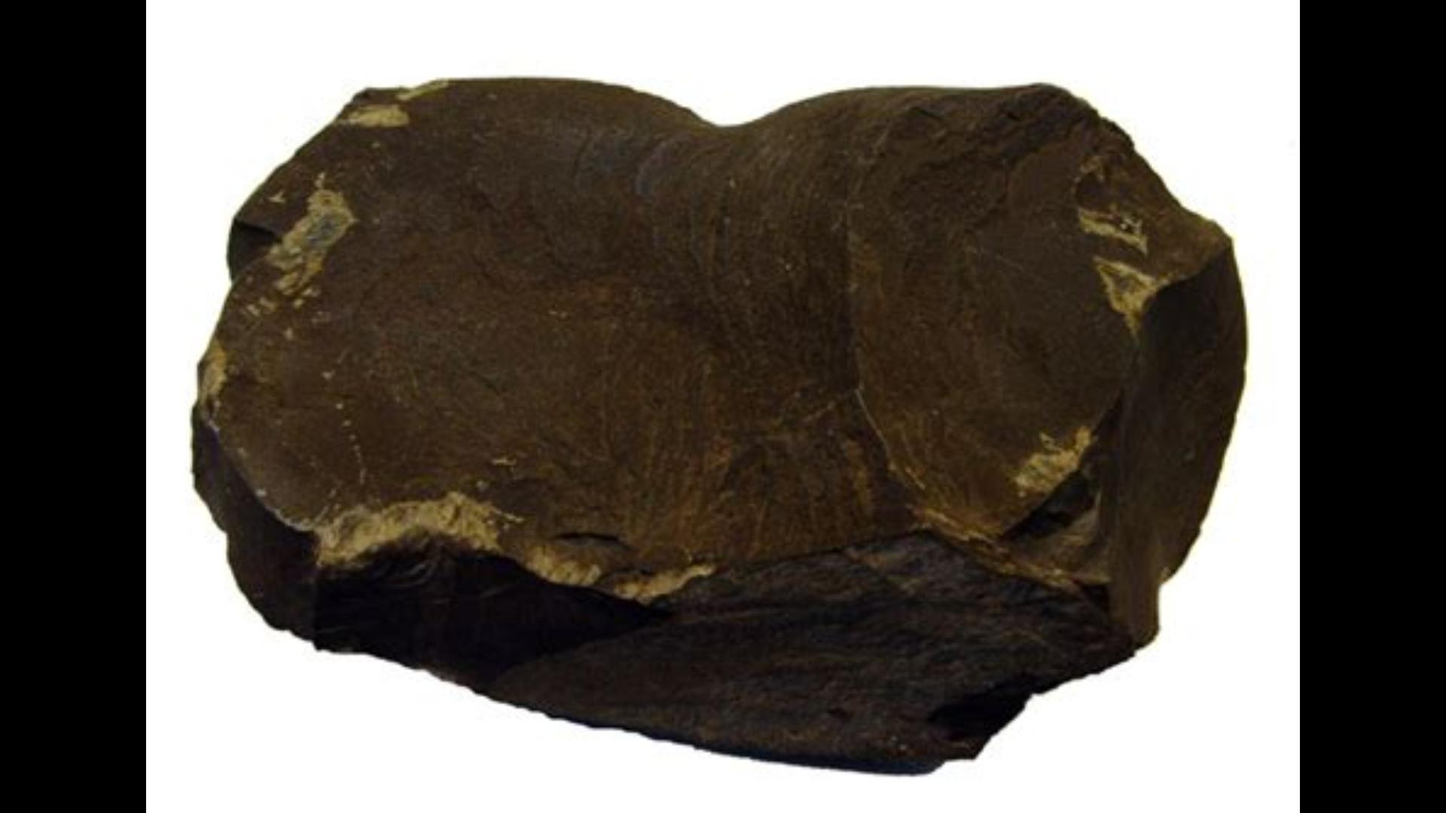rock: (192, 80, 1242, 757)
